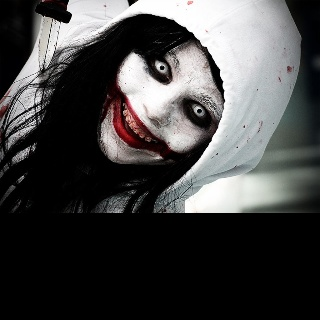without_mask: (94, 33, 224, 166)
